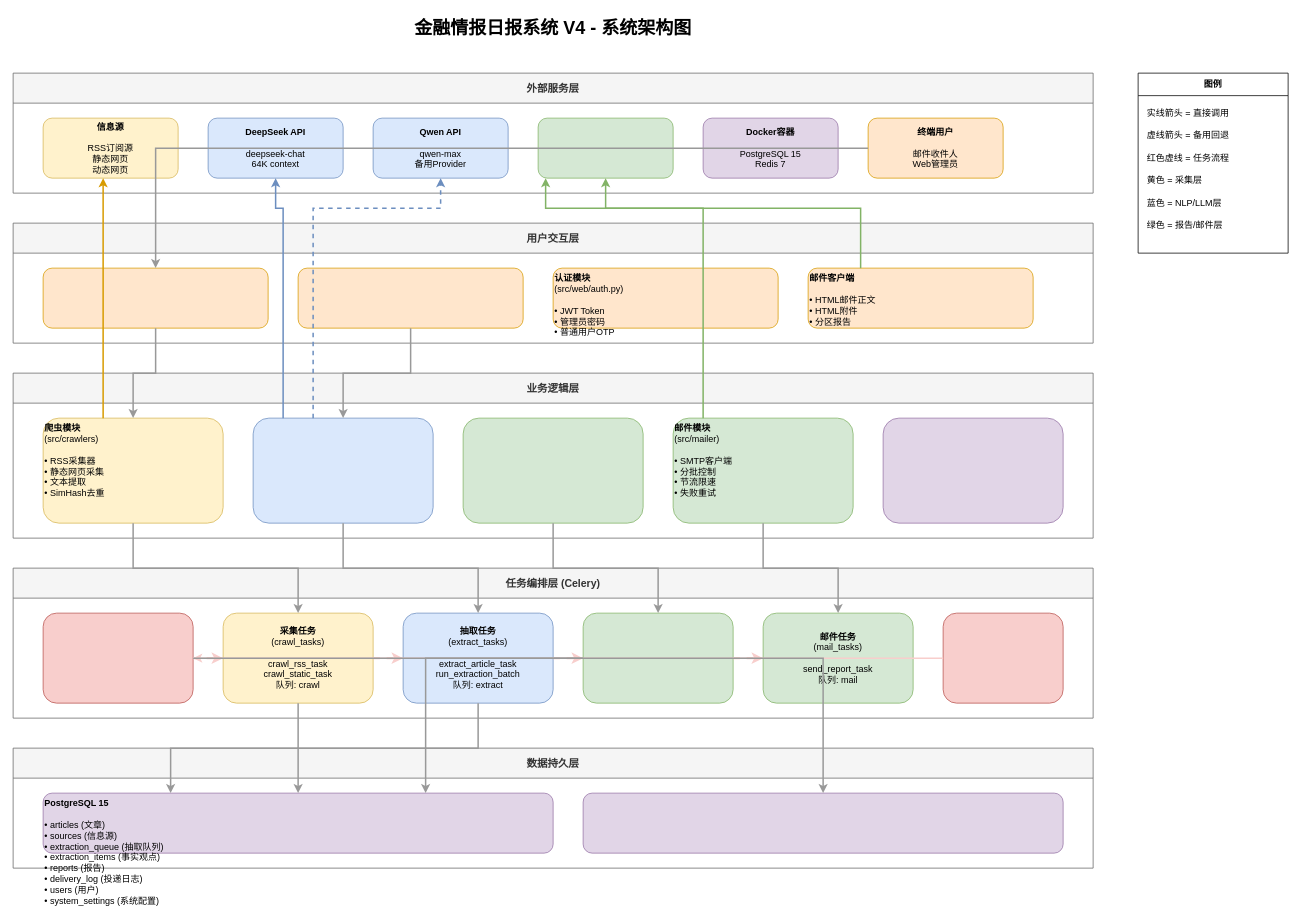
Some shapes in this 1301 by 919 pixel diagram are drawn without their labels. The centre of each missing label's shape, as x and y in pixels:
"CLI工具 (src/cli) • run_once.py • 手动触发任务 • 数据导入" belongs at [410,297].
"NLP模块 (src/nlp) • LLM抽取器 • Provider路由 • 长文分块 • 结果合并 • 质量过滤" belongs at [342,470].
"Redis 7 • Celery Broker • Celery Backend • 词云缓存 • 节流控制" belongs at [822,822].
"SMTP服务 163邮箱/QQ邮箱 企业邮箱" belongs at [605,147].
"Web管理台 (FastAPI + Jinja2) • 报告浏览 • 系统监控 • 信息源管理 • 收件人管理 • 词云统计" belongs at [155,297].
"任务编排器 (orchestrator.py) run_daily_report chain调度" belongs at [117,657].
"定时调度 (Celery Beat) 每天05:30触发" belongs at [1002,657].
"工具模块 (src/utils) • 日志配置 • 时间处理 • 重试装饰器 • 启动初始化" belongs at [972,470].
"报告任务 (report_tasks) build_report_task 队列: report" belongs at [657,657].
"报告生成模块 (src/composer) • 事实评分排序 • 分区TopN选取 • HTML构建 • 附件生成" belongs at [552,470].
